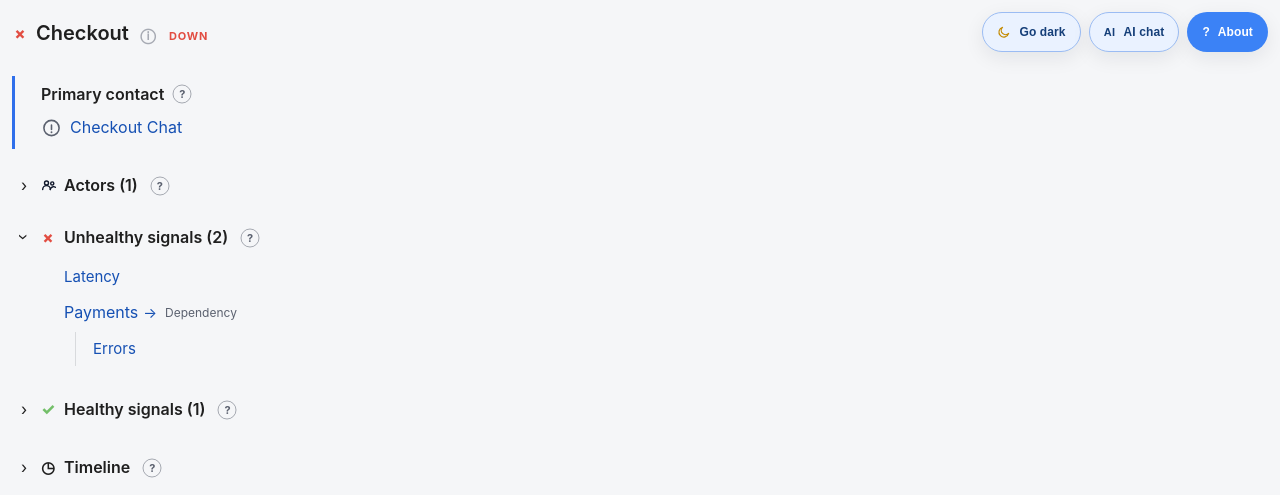
Test case: DetailsPanel contextual help › shows the correct tooltip for a hovered help control
The width and height of the screenshot is (1280, 495).
Press Tab
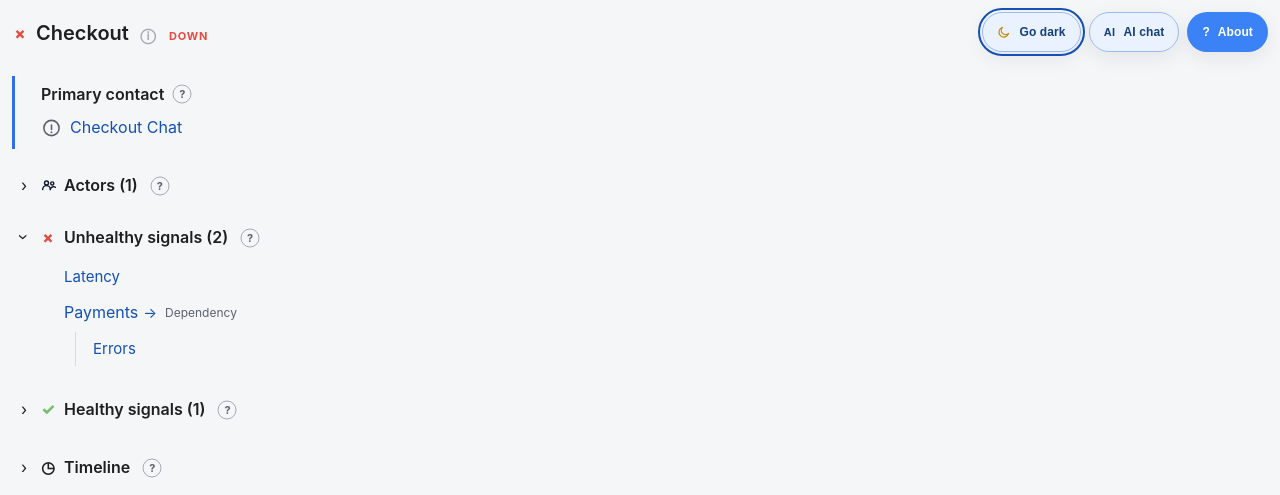
Focus the button named "About Unhealthy signals" at (250, 238), box [236, 224, 264, 252]
Hover over the button named "About Unhealthy signals" at (250, 238), box [236, 224, 264, 252]
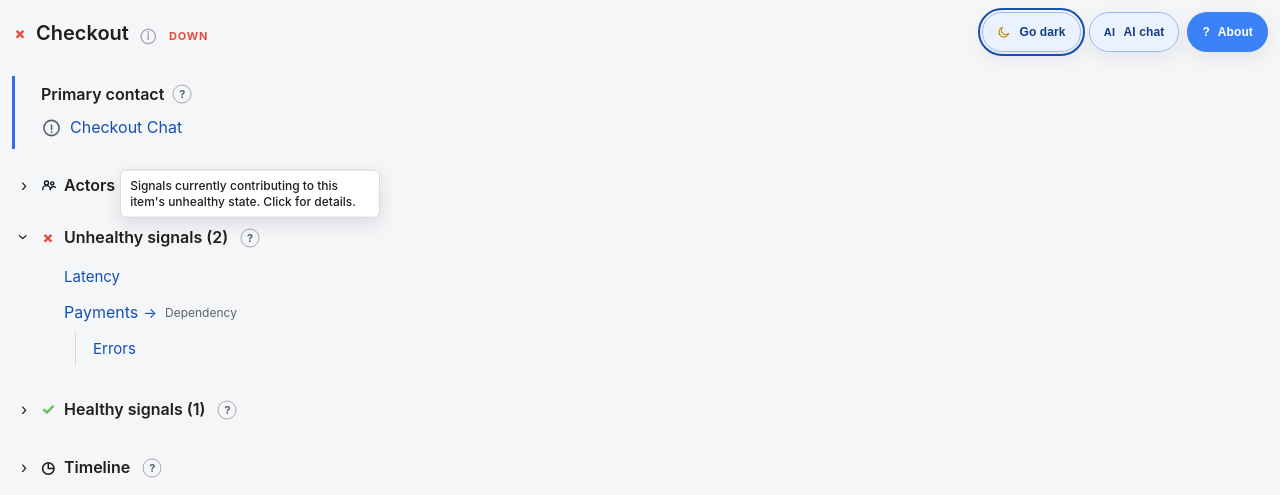
Now the tooltip shows "Signals currently contributing to this item's unhealthy state. Click for details.", box [130, 177, 356, 208]
